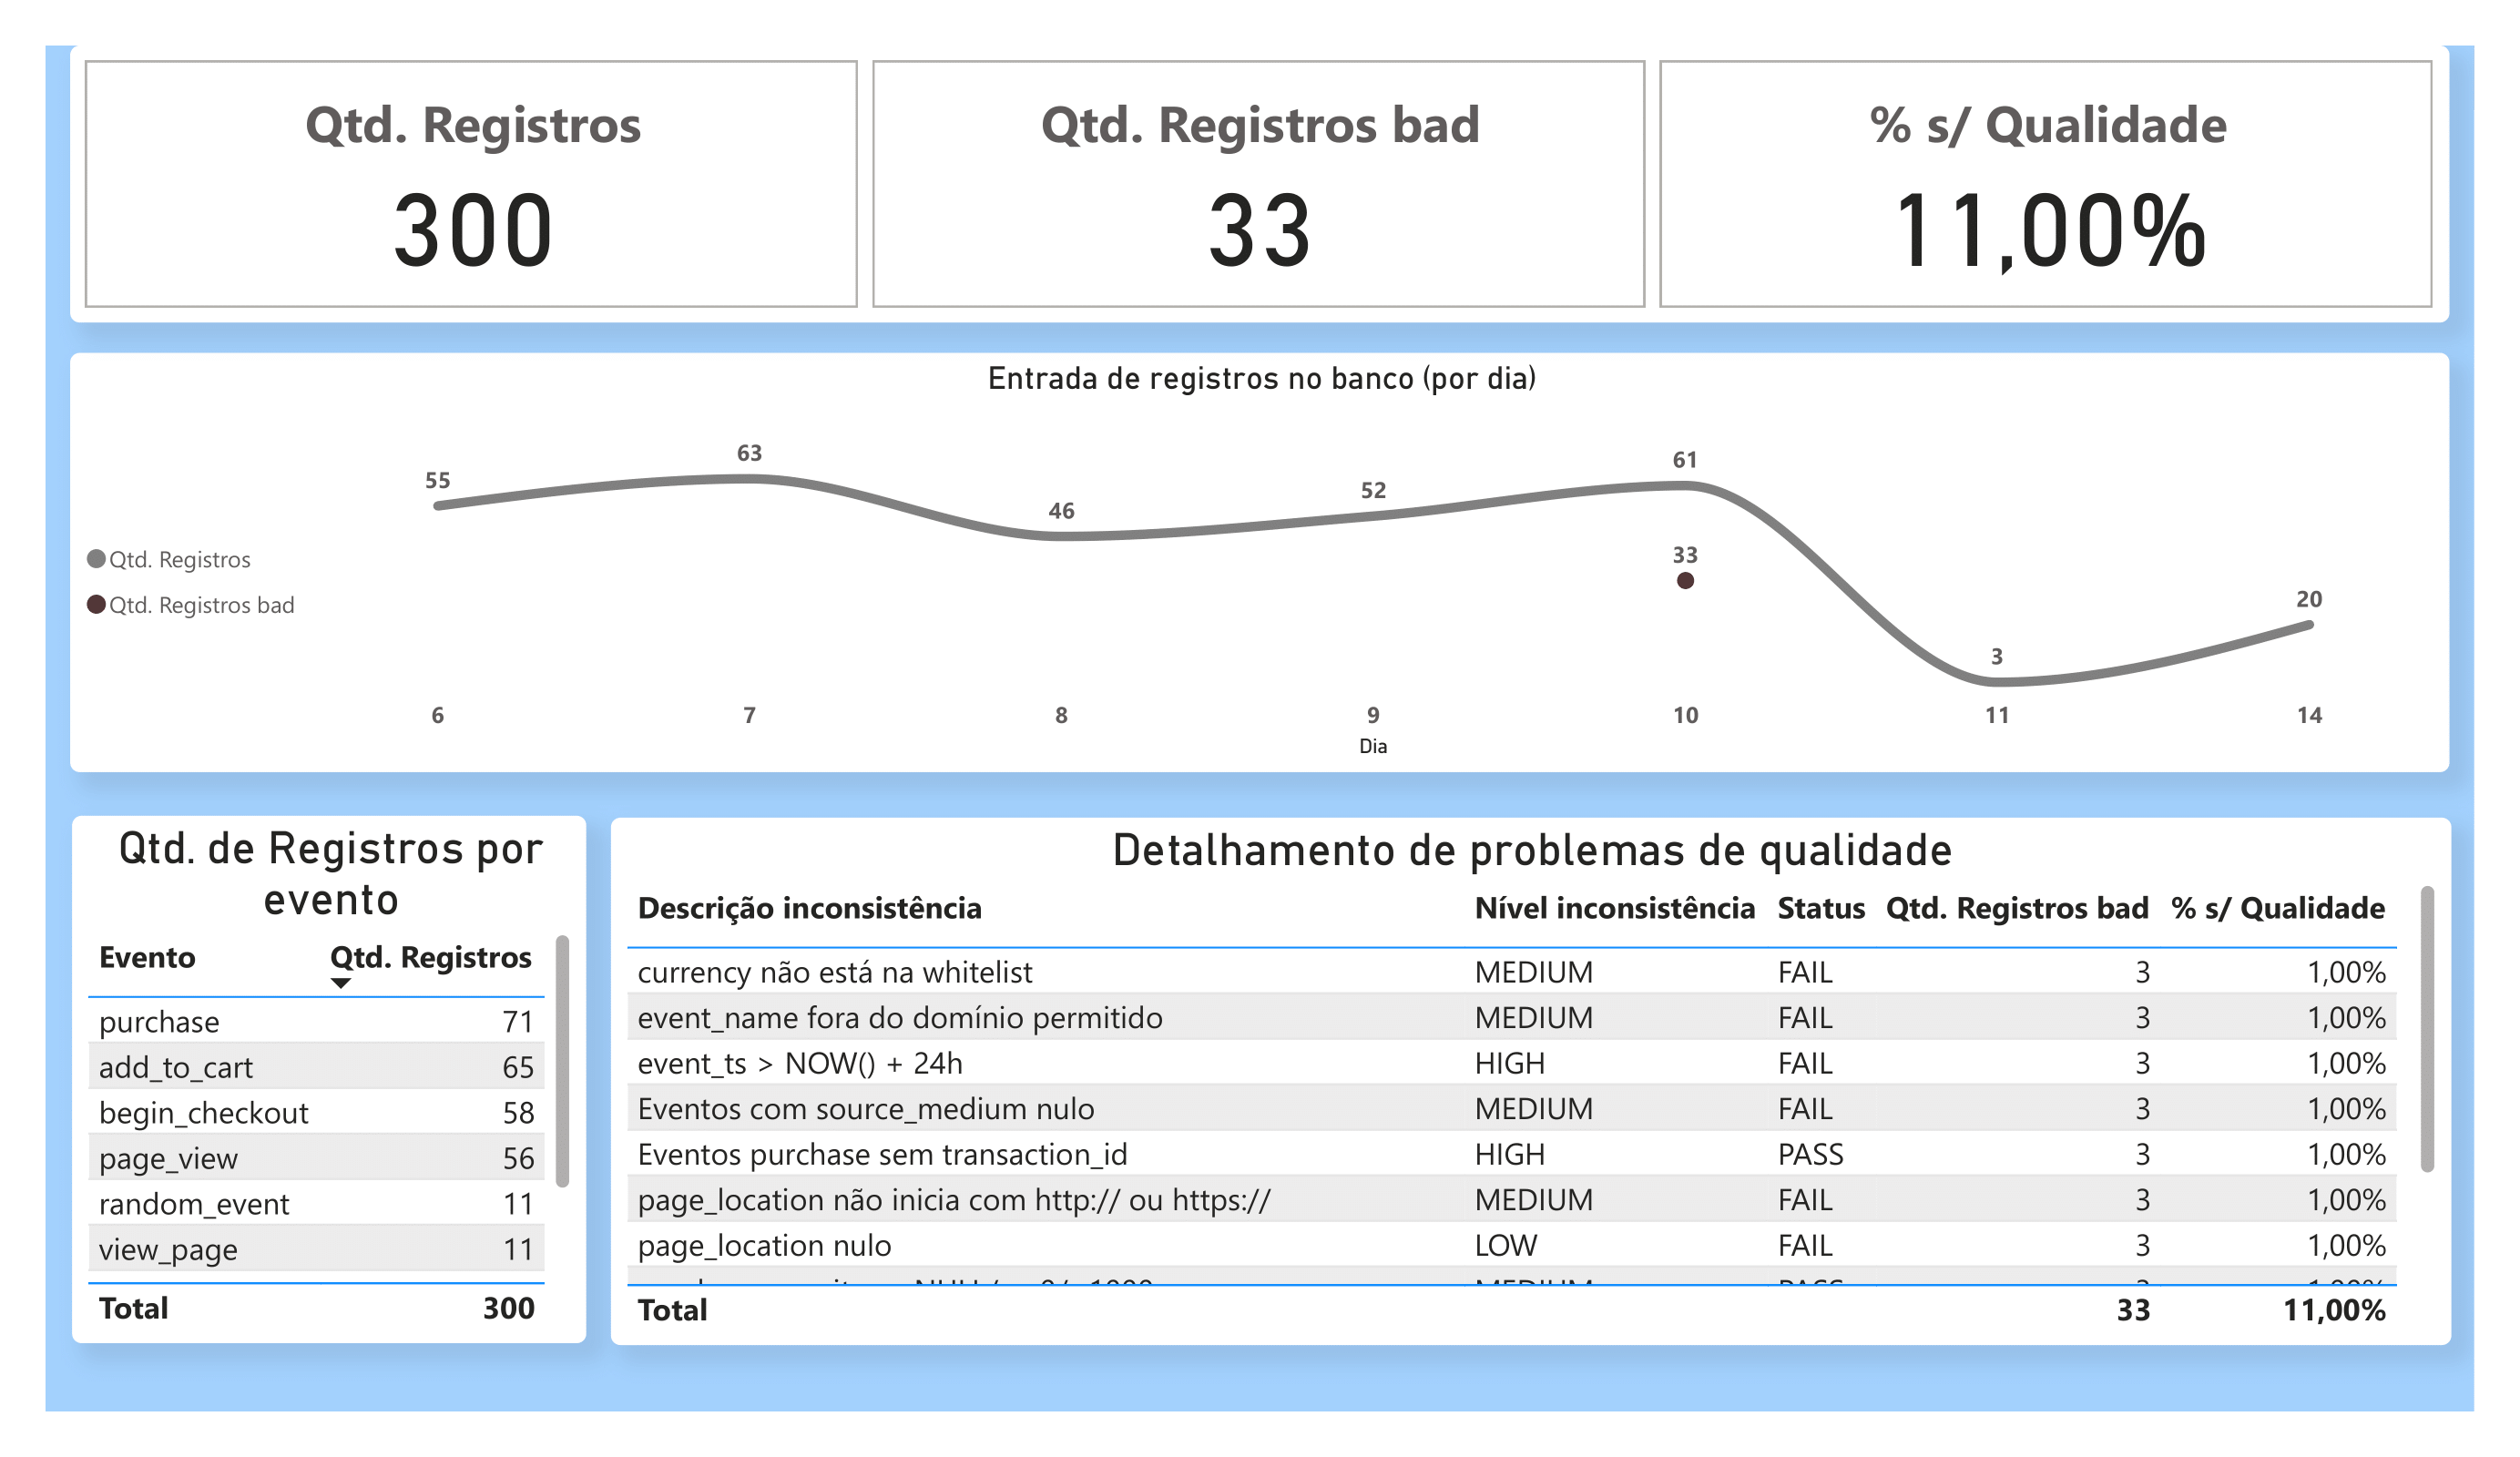

The dashboard page shown, as its layout file describes it:
{"tool":"powerbi","page":{"name":"Dashboard","canvas":[1280,720],"ordinal":0},"visuals":[{"type":"tableEx","title":"Qtd. de Registros  por evento","fields":{"Values":["GA4_GTM.event_name","Medidas.Qtd. Registros"]},"box":[14.4,406.1,270.7,277.9],"z":0},{"type":"lineChart","title":"Entrada de registros no banco (por dia)","fields":{"Category":["dCalendario.Dia"],"Y":["Medidas.Qtd. Registros","Medidas.Qtd. Registros bad"]},"box":[13.2,162.4,1254.1,221],"z":1},{"type":"tableEx","title":"Detalhamento de problemas de qualidade","fields":{"Values":["QA_RESULTS.description","QA_RESULTS.severity","QA_RESULTS.status","Medidas.Qtd. Registros bad","GA4_GTM.% s/ Qualidade"]},"box":[297.7,406.7,970,277.8],"z":2},{"type":"cardVisual","fields":{"Data":["Medidas.Qtd. Registros","Medidas.Qtd. Registros bad","GA4_GTM.% s/ Qualidade"]},"box":[13.2,0,1254.1,146.3],"z":3}]}

Visuals, with their boxes in screenshot pixels (x1, y1, x2, y2):
"Qtd. de Registros  por evento" tableEx: x1=73 y1=816 x2=587 y2=1343
"Entrada de registros no banco (por dia)" lineChart: x1=71 y1=353 x2=2451 y2=773
"Detalhamento de problemas de qualidade" tableEx: x1=610 y1=817 x2=2451 y2=1344
cardVisual - Medidas.Qtd. Registros x Medidas.Qtd. Registros bad: x1=71 y1=46 x2=2451 y2=323
